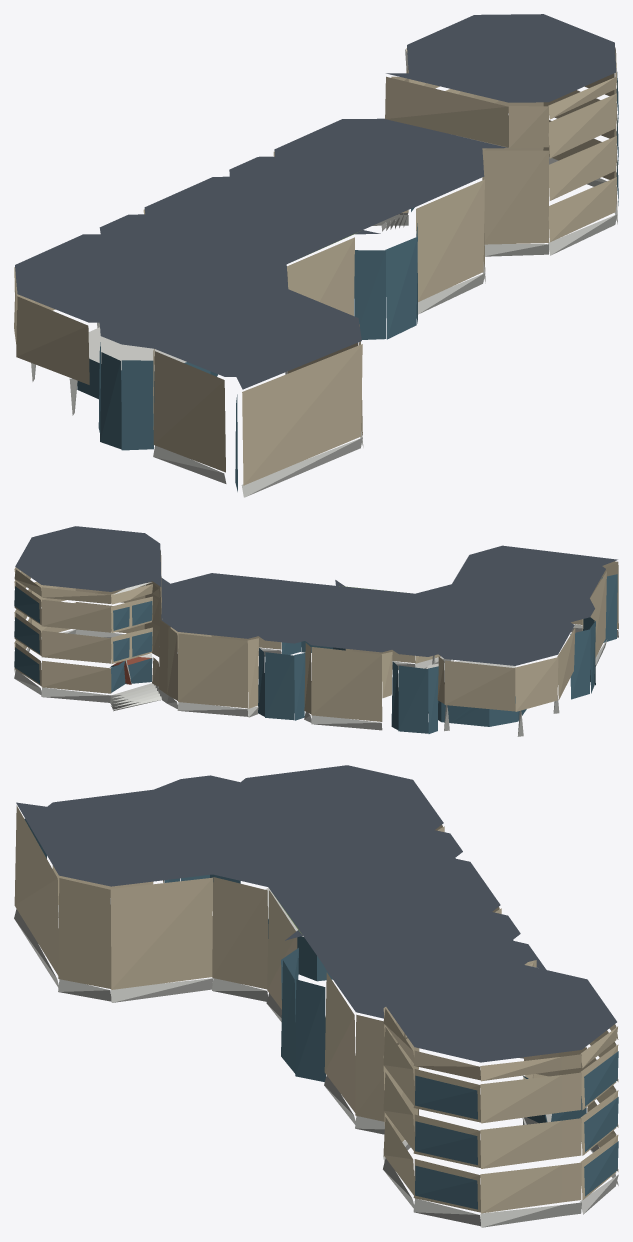
Rendered from afrikahuis.lod2.glb.
3 renders of one model, top to bottom at view 1: azimuth 30°, elevation 25°; view 2: azimuth 150°, elevation 25°; view 3: azimuth 270°, elevation 25°, orthographic. The views are drawn at different scales.
Parts seen in each view (by area): view 1: lod2; view 2: lod2; view 3: lod2.
Boxes of the visible parts, box(x1,y1,x2,y2) form: lod2: box(14, 14, 618, 497); lod2: box(14, 526, 618, 736); lod2: box(14, 765, 618, 1227).
Bounding box in the file's own units: 59.24 × 13.08 × 43.59.
